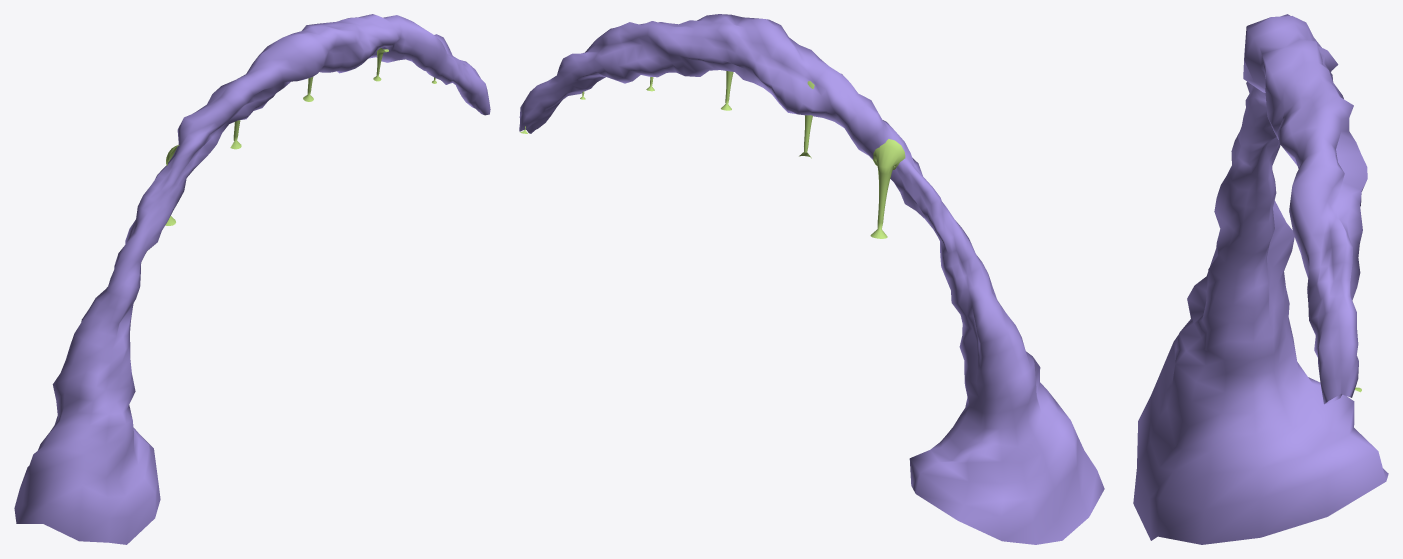
The model's file is tomatoTree.fbx.
The picture shows the model from 3 angles, left to right: view 1: azimuth 30°, elevation 25°; view 2: azimuth 150°, elevation 25°; view 3: azimuth 270°, elevation 25°; orthographic projection. The views are drawn at different scales.
Parts seen in each view (by area): view 1: appleArch1Flower; view 2: appleArch1Flower; view 3: appleArch1Flower.
Part boxes in pixels (x1=…): appleArch1Flower: x1=14, y1=14, x2=490, y2=544; appleArch1Flower: x1=519, y1=14, x2=1104, y2=544; appleArch1Flower: x1=1133, y1=14, x2=1388, y2=544.
Bounding box in the file's own units: 1.99 × 1.64 × 0.5497.
